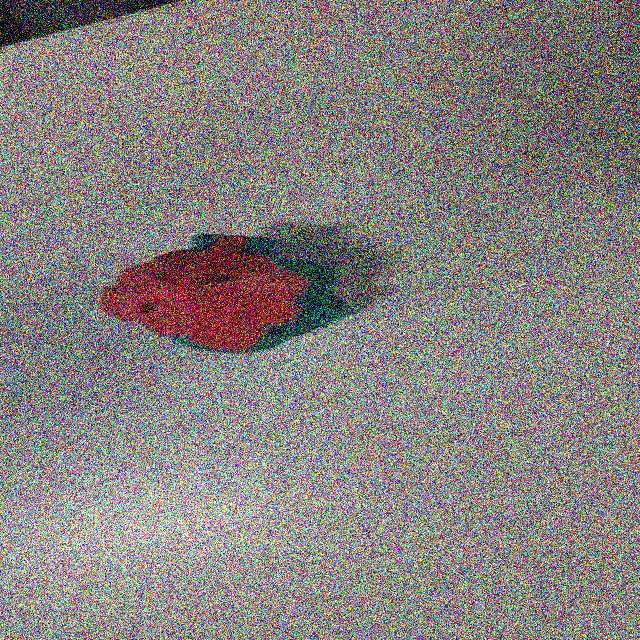House: (97, 235, 363, 361)
